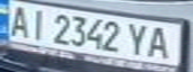2: (48, 10, 72, 46), (103, 18, 127, 54)
3: (66, 14, 87, 47)
4: (84, 16, 106, 51)
A: (145, 24, 175, 61), (3, 2, 33, 38)
I: (24, 7, 51, 40)
Y: (124, 20, 151, 57)
